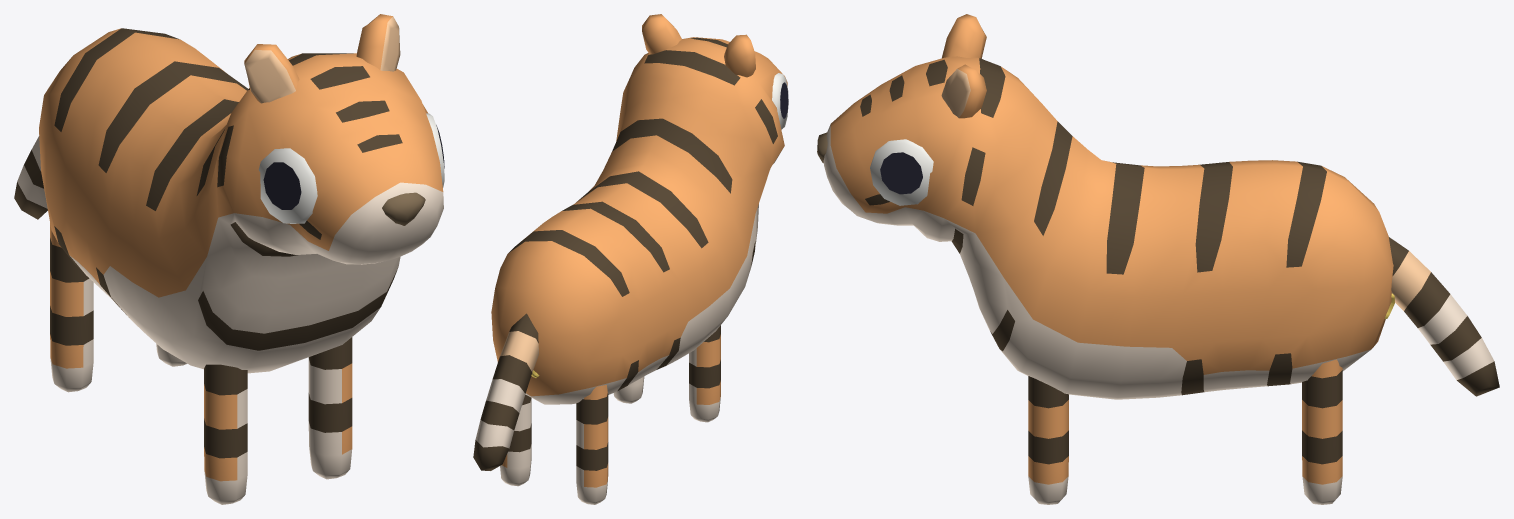
File: tiger.fbx
3 views of the same model, side by side, from view 1: azimuth 30°, elevation 25°; view 2: azimuth 150°, elevation 25°; view 3: azimuth 270°, elevation 25° (orthographic). The views are drawn at different scales.
Visible parts, largest first — view 1: Tiger_LOD1_Mat_Tiger_0; view 2: Tiger_LOD1_Mat_Tiger_0; view 3: Tiger_LOD1_Mat_Tiger_0.
Boxes of the visible parts, box(x1,y1,x2,y2) form: Tiger_LOD1_Mat_Tiger_0: box(14, 14, 444, 504); Tiger_LOD1_Mat_Tiger_0: box(473, 14, 788, 504); Tiger_LOD1_Mat_Tiger_0: box(817, 14, 1499, 504).
Bounding box in the file's own units: 1.02 × 2.32 × 3.29.
